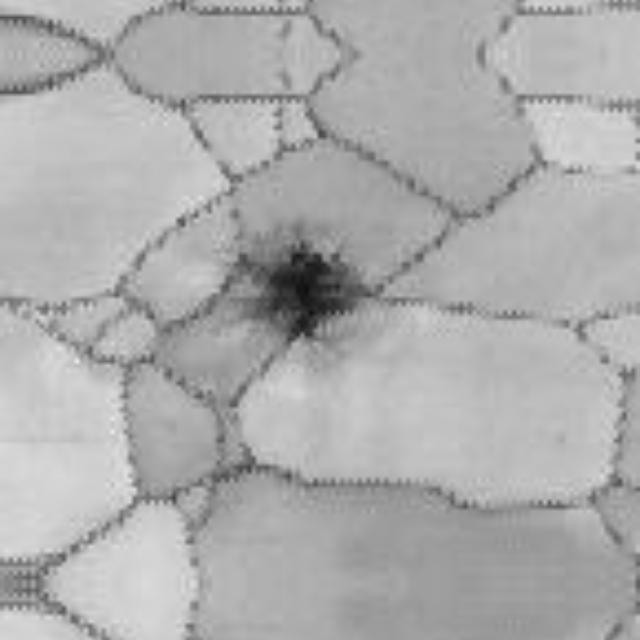good_void: (234, 227, 386, 353)
